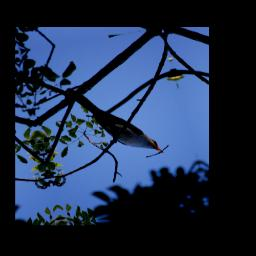Cuckoo: (77, 84, 165, 166)
